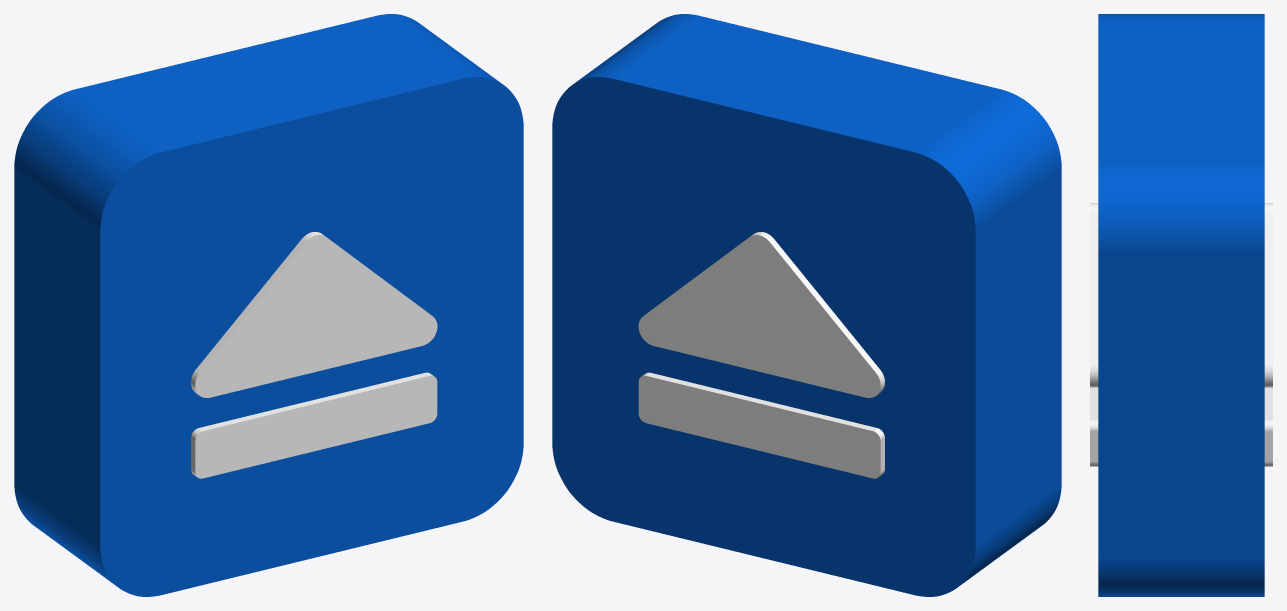
3 renders of one model, left to right at view 1: azimuth 30°, elevation 25°; view 2: azimuth 150°, elevation 25°; view 3: azimuth 270°, elevation 25°, orthographic. The views are drawn at different scales.
Visible parts, largest first — view 1: U+23CF_layer00_obj00, U+23CF_layer01_obj00; view 2: U+23CF_layer00_obj00, U+23CF_layer01_obj00; view 3: U+23CF_layer00_obj00, U+23CF_layer01_obj00.
Boxes of the visible parts, x1,y1,x2,y2 form: U+23CF_layer00_obj00: (14, 14, 523, 596); U+23CF_layer01_obj00: (191, 232, 437, 478); U+23CF_layer00_obj00: (552, 14, 1061, 596); U+23CF_layer01_obj00: (638, 232, 884, 478); U+23CF_layer00_obj00: (1098, 14, 1264, 596); U+23CF_layer01_obj00: (1090, 203, 1272, 466).
Size of the model in its own units: 0.5678 by 0.5677 by 0.22.
